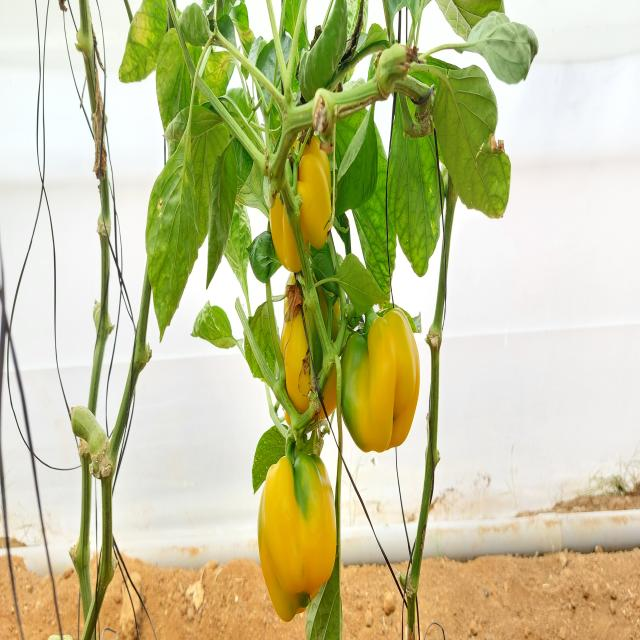Yellow-Ready-to-Harvest: (258, 450, 340, 624), (266, 128, 334, 268), (361, 309, 421, 452), (282, 284, 338, 418)
